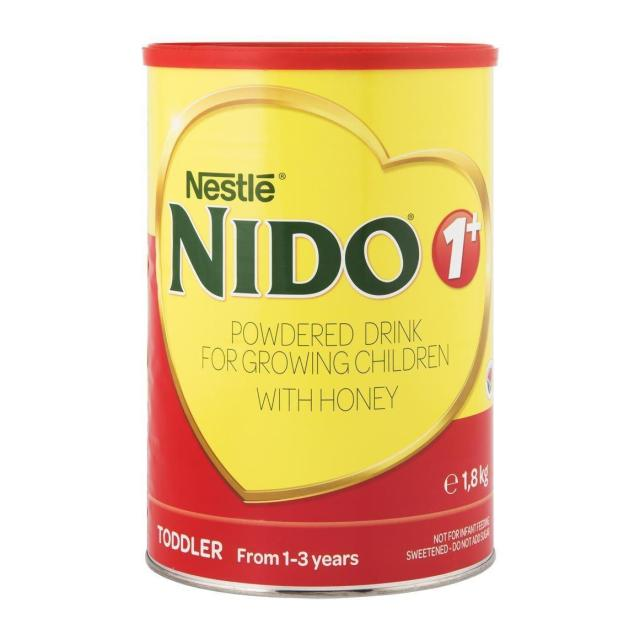formula-milk: (156, 68, 494, 571)
